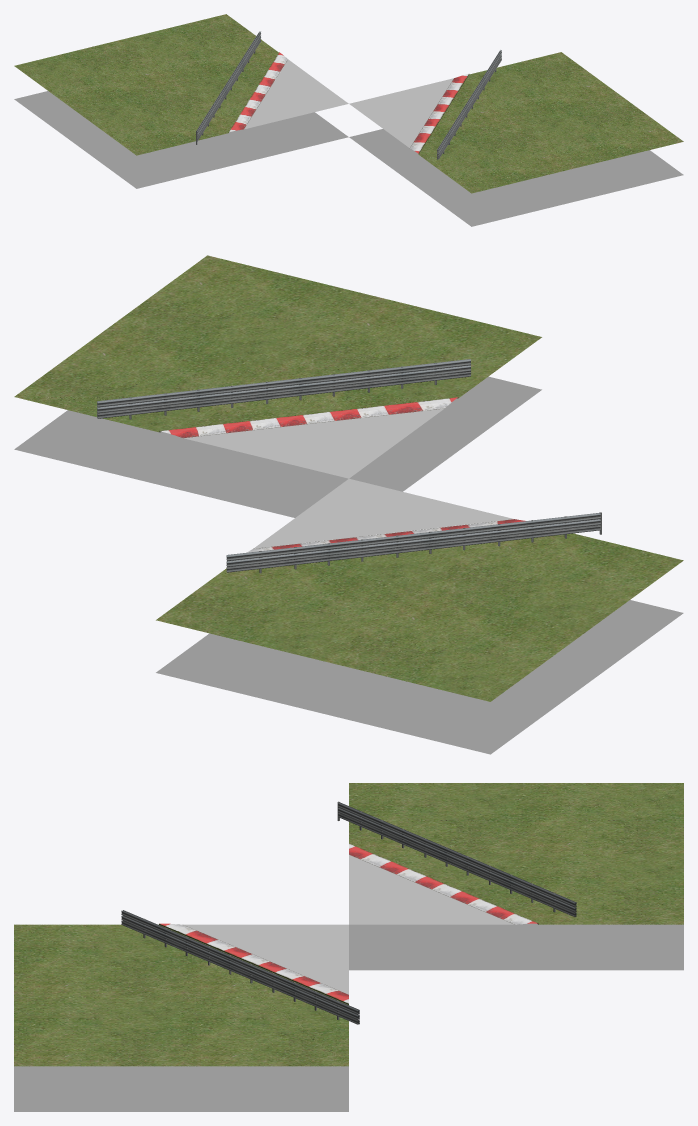
Rendered from Track_Straight_45Degree_Joiner.fbx.
3 views of the same model, one above another, from view 1: azimuth 30°, elevation 25°; view 2: azimuth 150°, elevation 25°; view 3: azimuth 270°, elevation 25° (orthographic). The views are drawn at different scales.
Parts seen in each view (by area): view 1: Grass, Snap_Plane_Invisible_01, Snap_Plane_Invisible_02, Road, Curb_A, Curb_B, Rail_A, Rail_B; view 2: Grass, Snap_Plane_Invisible_02, Snap_Plane_Invisible_01, Road, Rail_A, Rail_B, Curb_B, Curb_A; view 3: Grass, Snap_Plane_Invisible_02, Snap_Plane_Invisible_01, Road, Rail_A, Rail_B, Curb_A, Curb_B.
Boxes of the visible parts, x1,y1,x2,y2 form: Grass: (14, 14, 683, 193); Snap_Plane_Invisible_01: (349, 129, 683, 226); Snap_Plane_Invisible_02: (14, 91, 348, 188); Road: (244, 59, 453, 147); Curb_A: (228, 52, 287, 132); Curb_B: (410, 74, 469, 153); Rail_A: (196, 31, 261, 144); Rail_B: (437, 50, 501, 159); Grass: (14, 255, 683, 701); Snap_Plane_Invisible_02: (156, 536, 683, 754); Snap_Plane_Invisible_01: (14, 376, 541, 517); Road: (184, 408, 513, 548); Rail_A: (226, 512, 601, 573); Rail_B: (97, 359, 471, 419); Curb_B: (159, 397, 458, 438); Curb_A: (247, 519, 525, 552); Grass: (14, 783, 683, 1066); Snap_Plane_Invisible_02: (349, 869, 683, 970); Snap_Plane_Invisible_01: (14, 1066, 348, 1111); Road: (183, 855, 513, 994); Rail_A: (337, 801, 576, 916); Rail_B: (121, 910, 359, 1024); Curb_A: (349, 843, 538, 924); Curb_B: (159, 923, 348, 1004).
Bounding box in the file's own units: 40 × 4.24 × 40.
